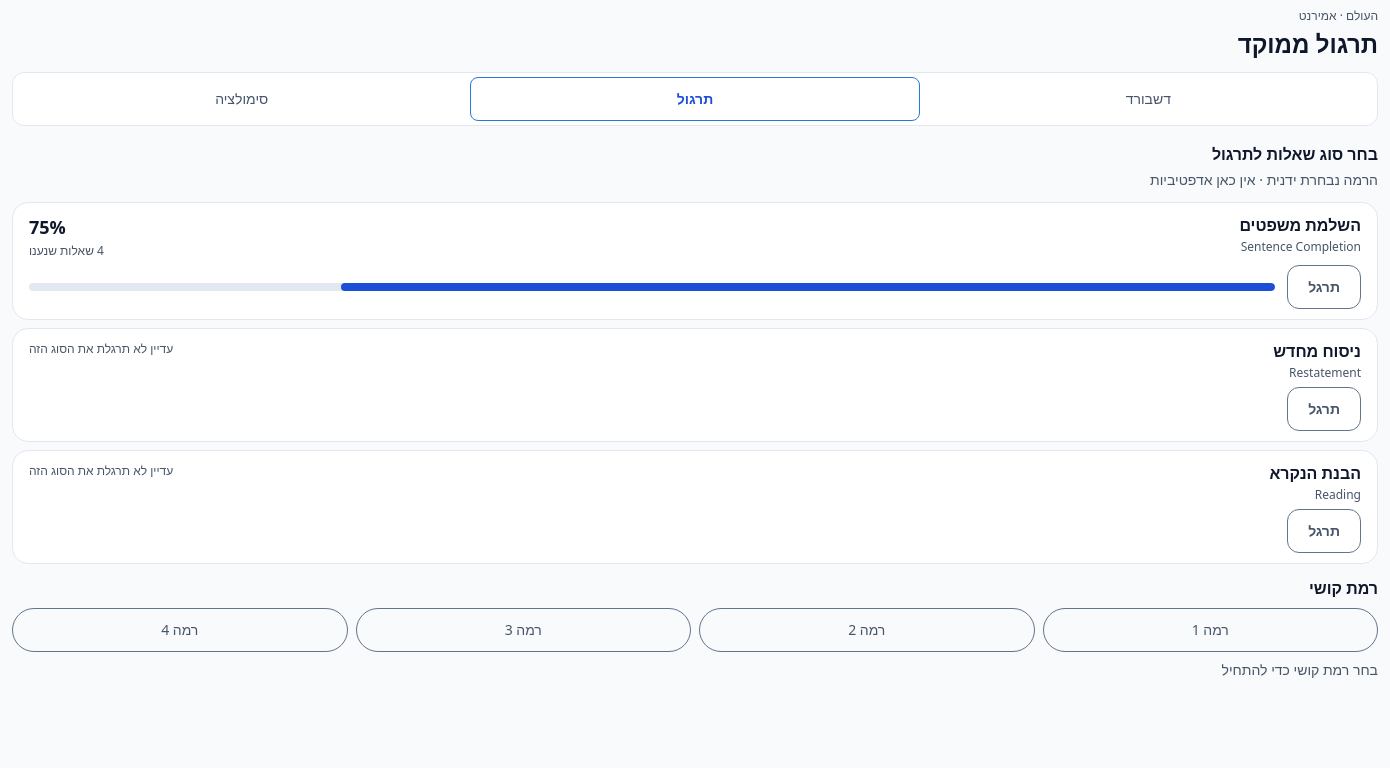
Test case: AmirnetPracticeFlow — the production door (T-376) › ⛔ the learner is ⛔ never left on a blank screen while the bank is read
The image size is (1390, 768).
Expected: the number of buttons "תרגל" is 3, [1287,265,1361,309]; [1287,387,1361,431]; [1287,509,1361,553]
Click the button "רמה 2": [867, 630] box [699,608,1034,652]
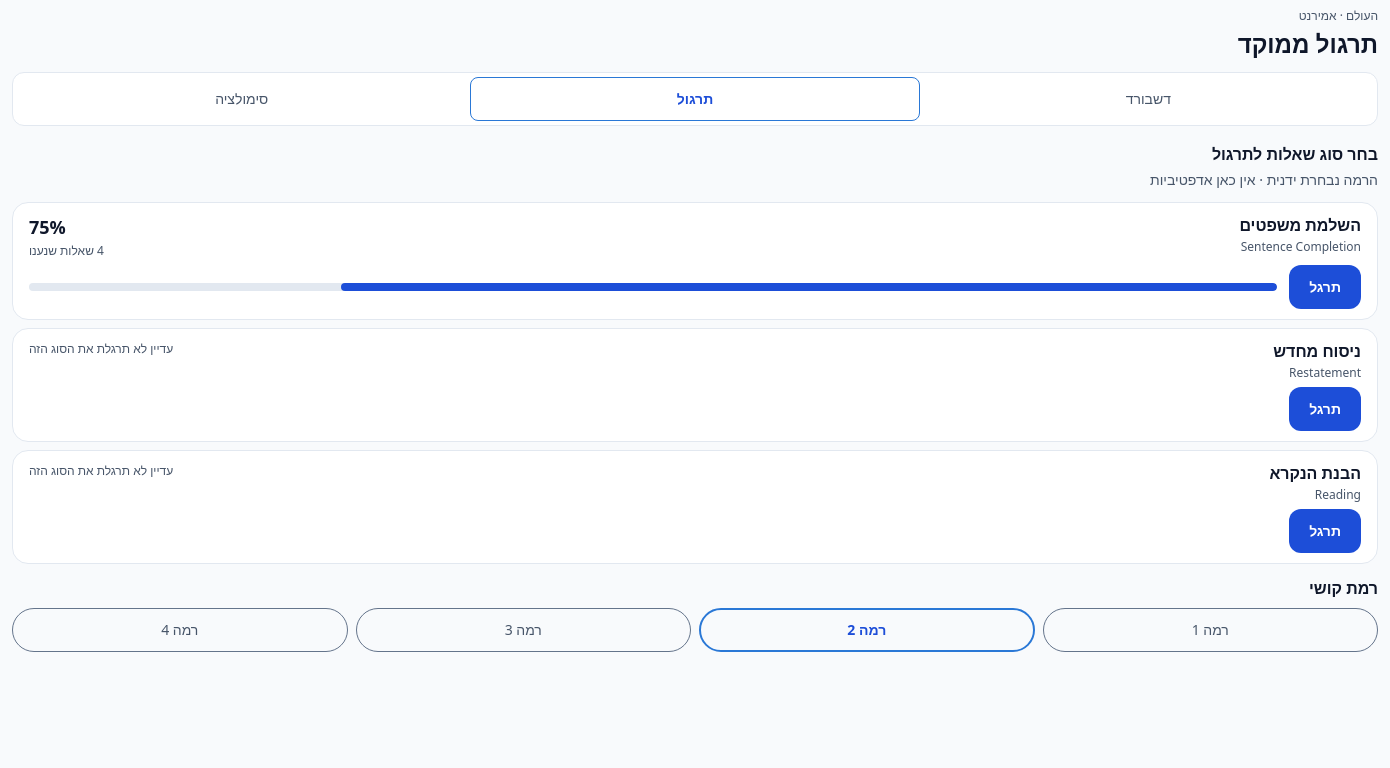
Click the button "תרגל" below "השלמת משפטים": [1325, 287] box [1289,265,1361,309]
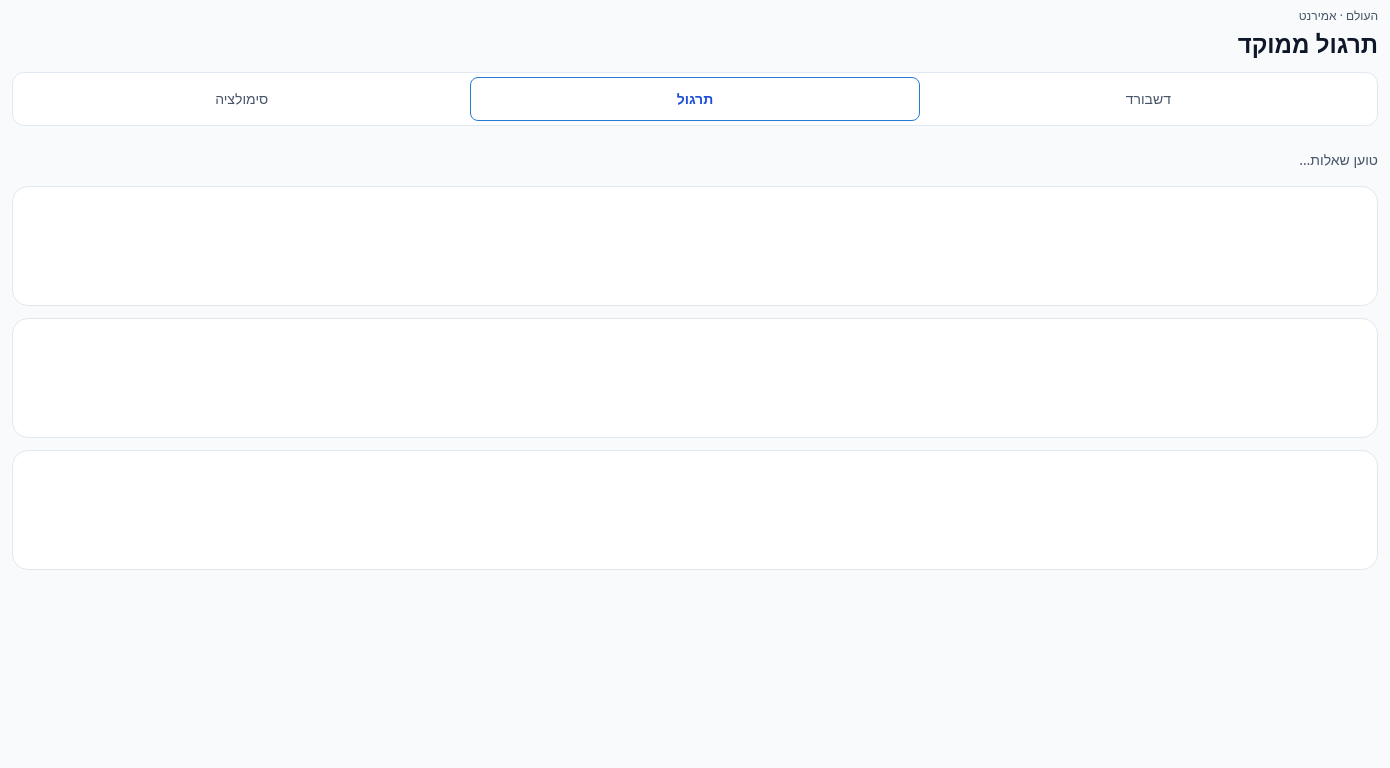
Expected: the text "טוען שאלות…" is shown, [1299,150,1378,169]
